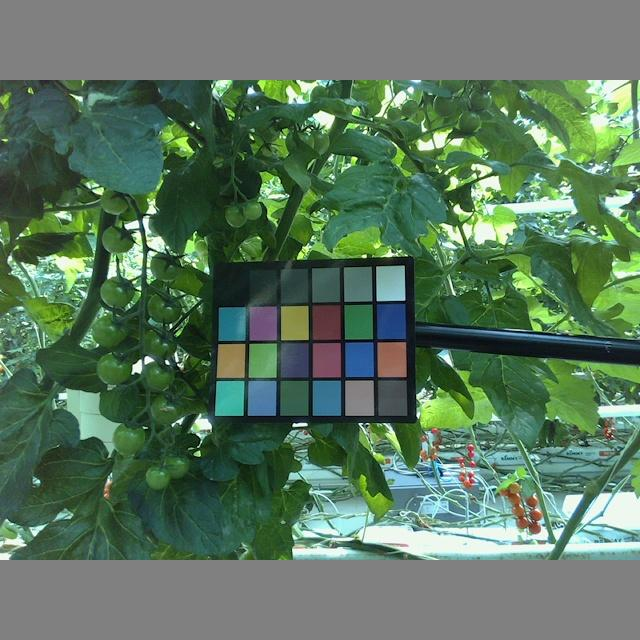green: (95, 351, 135, 387), (90, 314, 132, 347), (141, 326, 180, 361), (146, 390, 183, 423), (145, 292, 183, 324), (139, 361, 177, 393), (99, 274, 136, 306), (112, 422, 148, 454), (149, 250, 184, 282), (100, 224, 135, 255), (159, 454, 190, 481), (100, 187, 130, 213), (142, 464, 169, 491), (223, 202, 249, 230), (244, 198, 263, 219)
